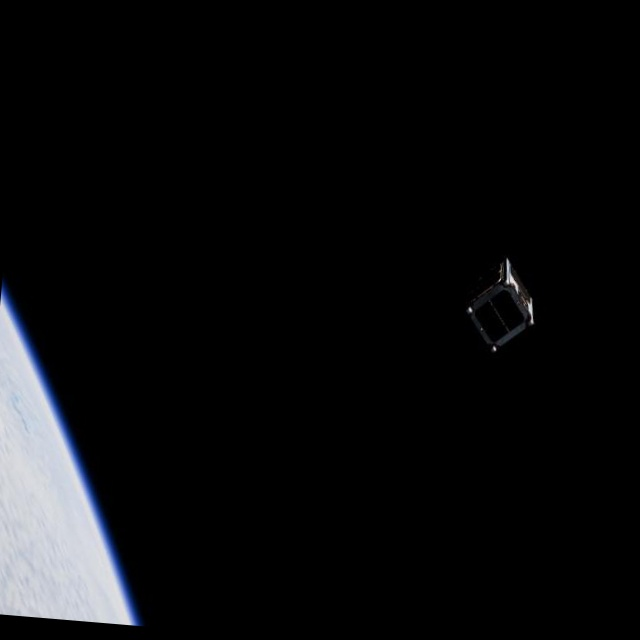satellite: (454, 252, 544, 367)
